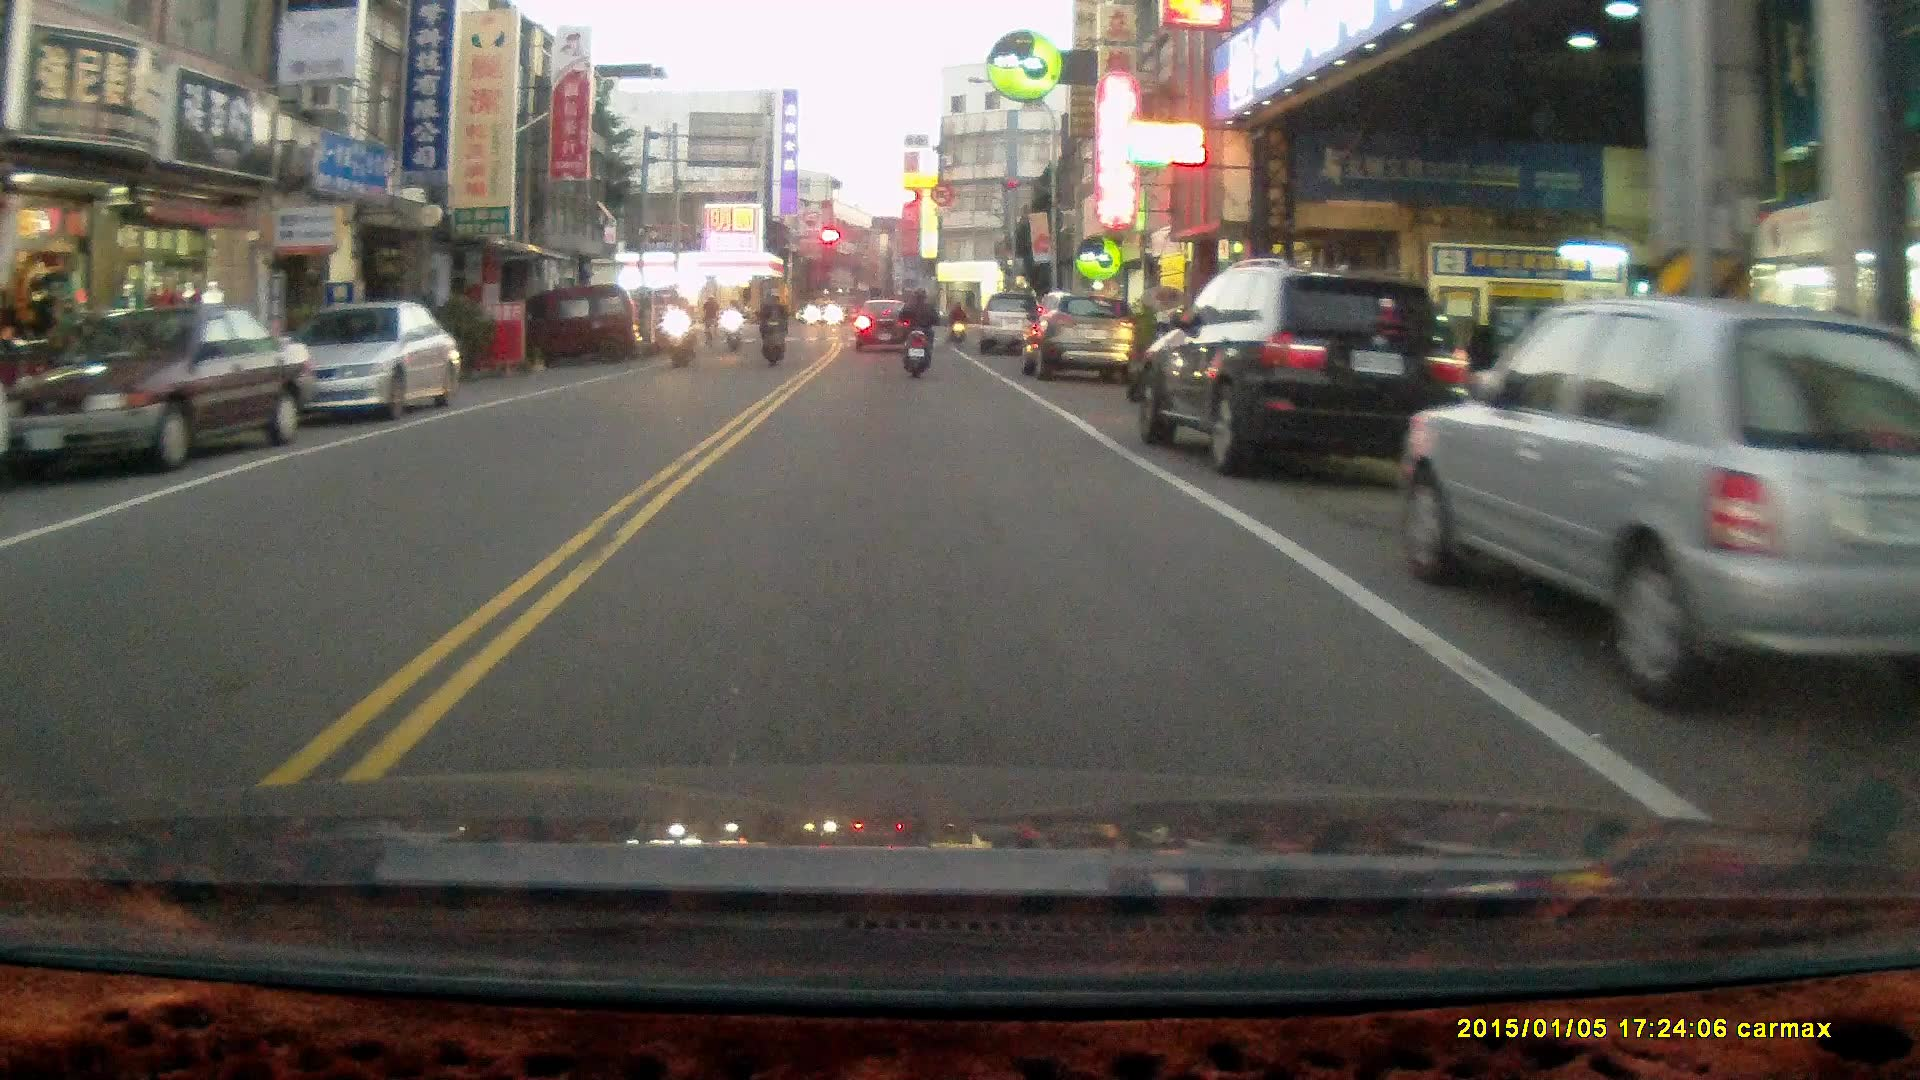pedestrian: (1463, 309, 1503, 428)
rider: (894, 284, 935, 379), (666, 291, 696, 370), (757, 291, 787, 367), (698, 291, 722, 350), (720, 295, 744, 351), (946, 300, 968, 344)
vehicle: (1401, 294, 1920, 718), (1144, 258, 1467, 479), (2, 301, 322, 469), (275, 300, 462, 424), (1019, 293, 1136, 378), (549, 284, 652, 357), (980, 290, 1053, 355)
